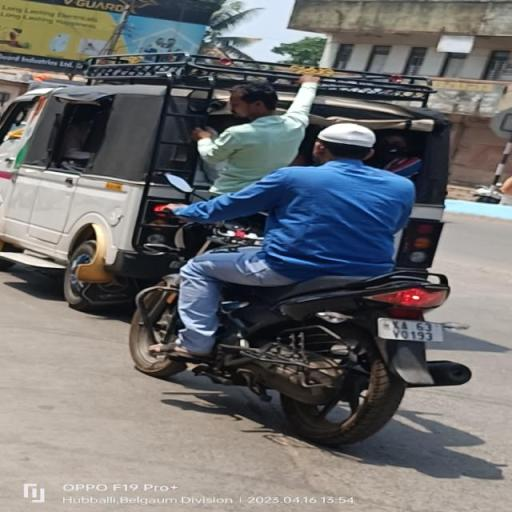bike: (124, 118, 464, 442)
numberplate: (382, 318, 444, 344)
withouthelmet: (314, 125, 380, 160)
